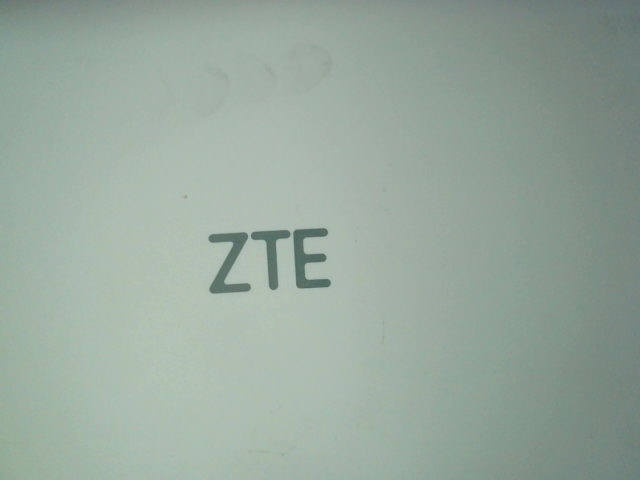AN_ZTE: (191, 220, 344, 299)
